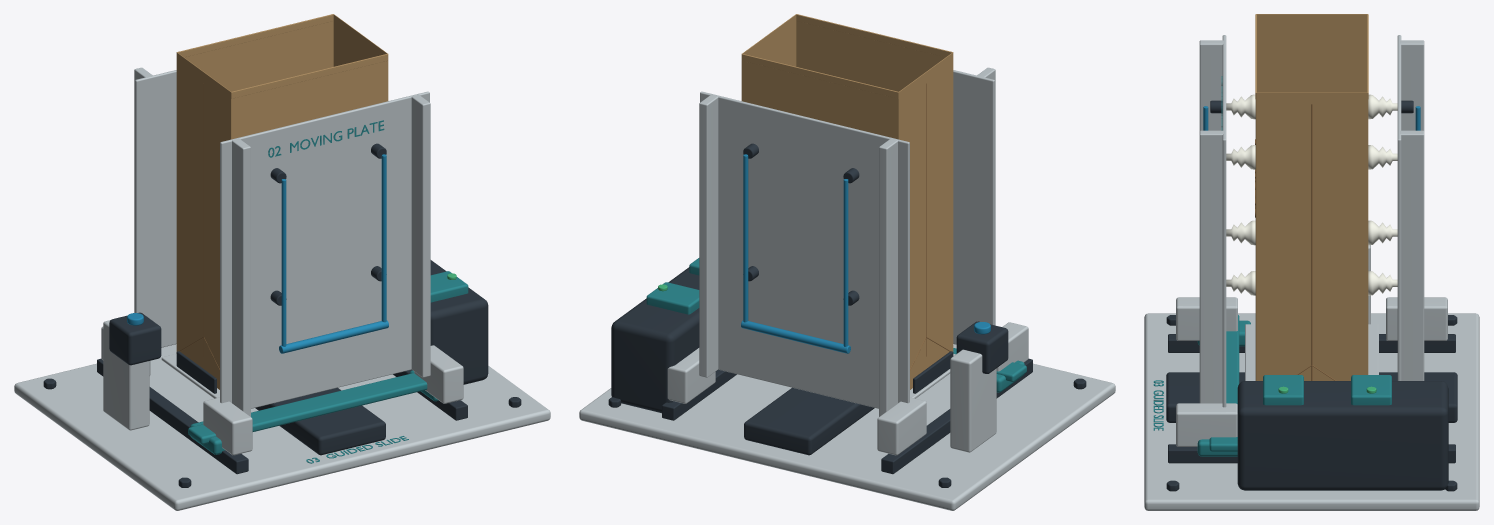
File: bag-opener.glb
The picture shows the model from 3 angles, left to right: view 1: azimuth 30°, elevation 25°; view 2: azimuth 150°, elevation 25°; view 3: azimuth 270°, elevation 25°; orthographic projection. The views are drawn at different scales.
Visible parts, largest first — view 1: Moving front suction platen, Table-bolted stainless base, Paper gusset side, Fixed rear suction platen, Front paper wall, Rear paper wall, Moving front folded stiffening edge.001, Moving front folded stiffening edge, Vacuum manifold and valve enclosure, Moving platen crosshead, Proposed rodless actuator cassette, Bag presence sensor bracket (+13 smaller); view 2: Fixed rear suction platen, Table-bolted stainless base, Paper gusset side, Moving front suction platen, Vacuum manifold and valve enclosure, Rear paper wall, Front paper wall, Fixed rear folded stiffening edge.001, Proposed rodless actuator cassette, Fixed rear folded stiffening edge, Bag presence sensor bracket, Fixed rear outside-tray mounting foot (+13 smaller); view 3: Paper gusset side.001, Vacuum manifold and valve enclosure, Table-bolted stainless base, Paper gusset side, Moving front folded stiffening edge.001, Fixed rear folded stiffening edge.001, Moving front outside-tray mounting foot.001, Proposed rodless actuator cassette, Fixed rear folded stiffening edge, Moving front folded stiffening edge, Moving front suction platen, Fixed rear suction platen (+18 smaller).
Boxes of the visible parts, bbox=[...] form: Moving front suction platen: bbox=[220, 91, 429, 408]; Table-bolted stainless base: bbox=[14, 344, 550, 510]; Paper gusset side: bbox=[176, 52, 231, 389]; Fixed rear suction platen: bbox=[135, 70, 176, 347]; Front paper wall: bbox=[231, 61, 387, 139]; Rear paper wall: bbox=[184, 21, 333, 91]; Moving front folded stiffening edge.001: bbox=[411, 94, 430, 377]; Moving front folded stiffening edge: bbox=[232, 138, 250, 416]; Vacuum manifold and valve enclosure: bbox=[430, 260, 488, 384]; Moving platen crosshead: bbox=[188, 373, 427, 444]; Proposed rodless actuator cassette: bbox=[255, 387, 385, 455]; Bag presence sensor bracket: bbox=[103, 320, 149, 430]; Fixed rear suction platen: bbox=[700, 91, 909, 408]; Table-bolted stainless base: bbox=[579, 344, 1115, 510]; Paper gusset side: bbox=[898, 52, 953, 389]; Moving front suction platen: bbox=[953, 70, 994, 344]; Vacuum manifold and valve enclosure: bbox=[611, 267, 717, 413]; Rear paper wall: bbox=[742, 61, 898, 139]; Front paper wall: bbox=[796, 21, 945, 91]; Fixed rear folded stiffening edge.001: bbox=[699, 94, 718, 377]; Proposed rodless actuator cassette: bbox=[744, 387, 874, 455]; Fixed rear folded stiffening edge: bbox=[879, 138, 897, 416]; Bag presence sensor bracket: bbox=[950, 349, 996, 452]; Fixed rear outside-tray mounting foot: bbox=[877, 397, 926, 455]; Paper gusset side.001: bbox=[1256, 92, 1367, 380]; Vacuum manifold and valve enclosure: bbox=[1237, 381, 1448, 490]; Table-bolted stainless base: bbox=[1144, 313, 1479, 510]; Paper gusset side: bbox=[1256, 14, 1367, 92]; Moving front folded stiffening edge.001: bbox=[1199, 130, 1223, 403]; Fixed rear folded stiffening edge.001: bbox=[1400, 130, 1424, 380]; Moving front outside-tray mounting foot.001: bbox=[1176, 403, 1237, 446]; Proposed rodless actuator cassette: bbox=[1166, 372, 1457, 422]; Fixed rear folded stiffening edge: bbox=[1400, 40, 1424, 130]; Moving front folded stiffening edge: bbox=[1199, 40, 1223, 130]; Moving front suction platen: bbox=[1222, 35, 1226, 407]; Fixed rear suction platen: bbox=[1397, 35, 1401, 380].
Bounding box in the file's own units: 0.36 × 0.324 × 0.27.
